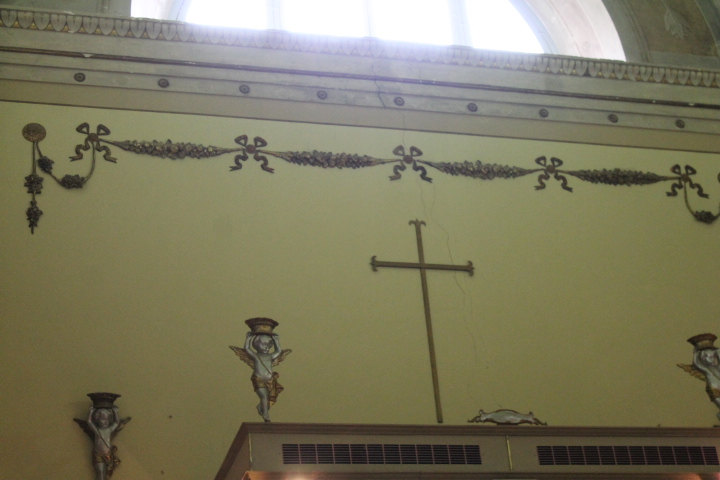Crack: (328, 25, 548, 458)
